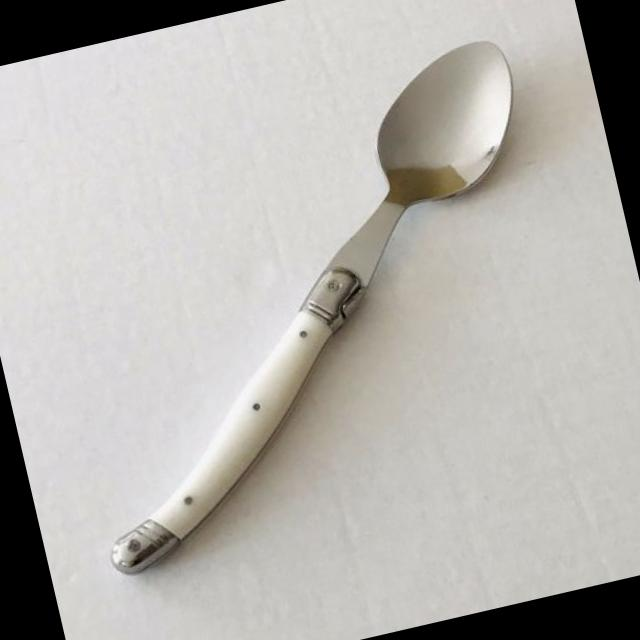spoon: (10, 29, 612, 604)
